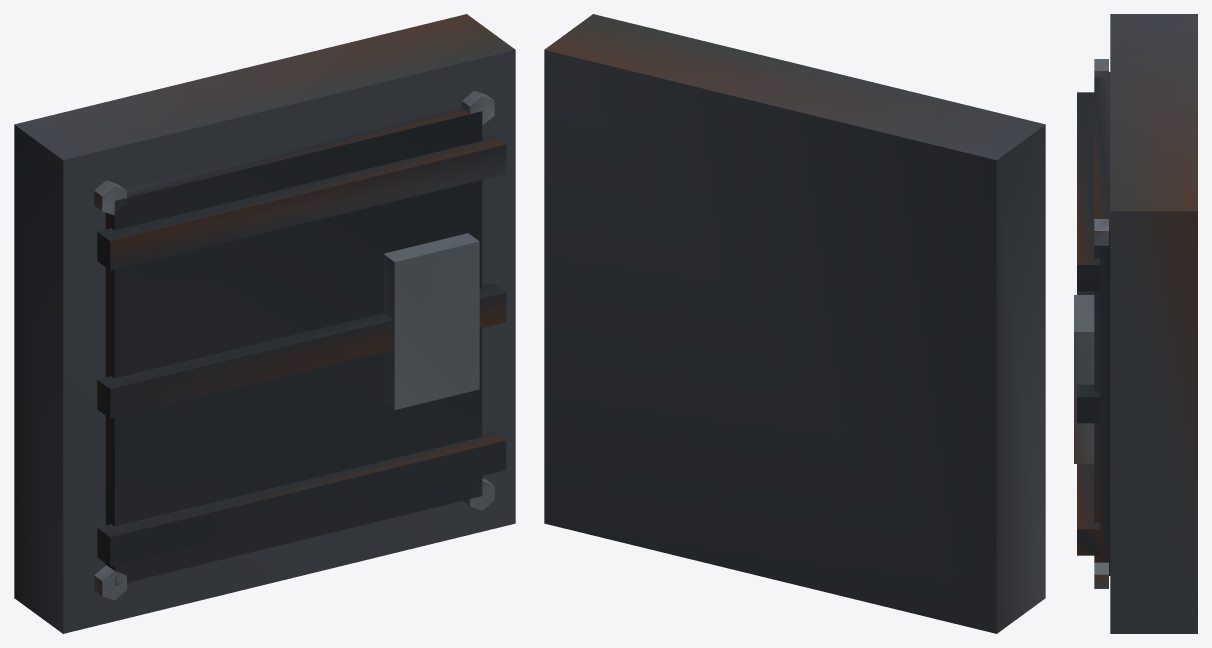
Rendered from tile_wall_conduit.glb.
3 renders of one model, left to right at view 1: azimuth 30°, elevation 25°; view 2: azimuth 150°, elevation 25°; view 3: azimuth 270°, elevation 25°, orthographic. The views are drawn at different scales.
Parts seen in each view (by area): view 1: tile_wall_conduit; view 2: tile_wall_conduit; view 3: tile_wall_conduit.
Boxes of the visible parts, x1,y1,x2,y2 form: tile_wall_conduit: (14,14,515,633); tile_wall_conduit: (544,14,1045,633); tile_wall_conduit: (1074,14,1197,633).
Size of the model in its own units: 32 by 32 by 8.5.
